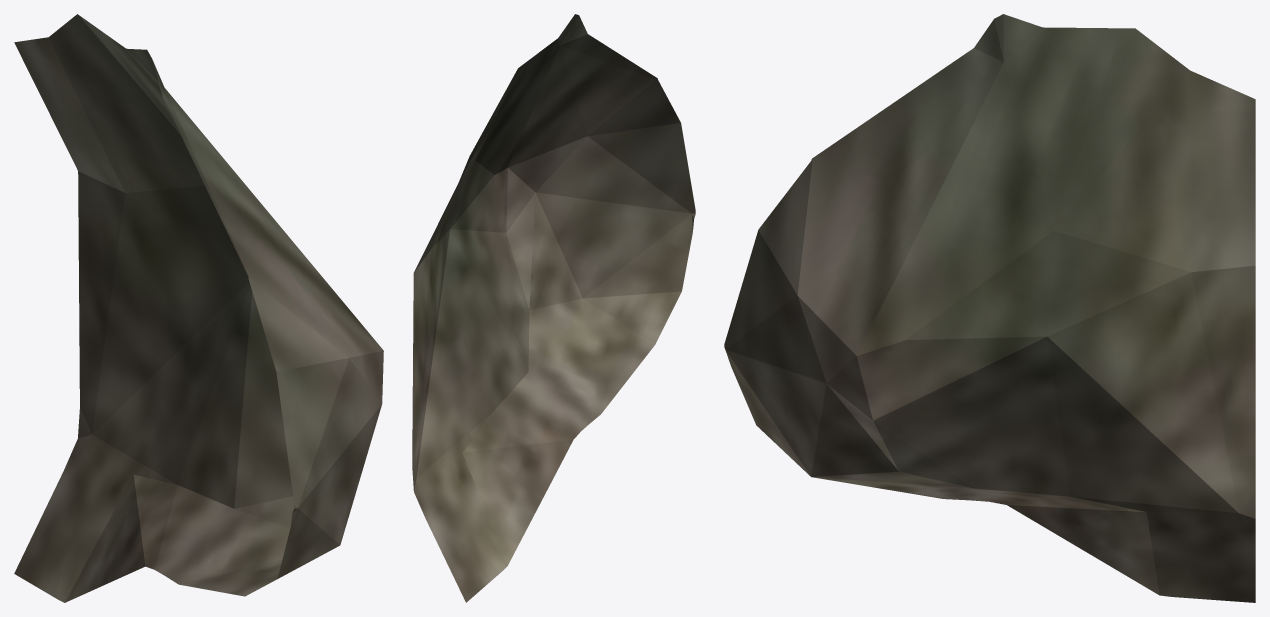
The picture shows the model from 3 angles, left to right: view 1: azimuth 30°, elevation 25°; view 2: azimuth 150°, elevation 25°; view 3: azimuth 270°, elevation 25°; orthographic projection. The views are drawn at different scales.
Bounding box in the file's own units: 0.3051 × 1.14 × 0.9294.
1 material, 1 textured.
